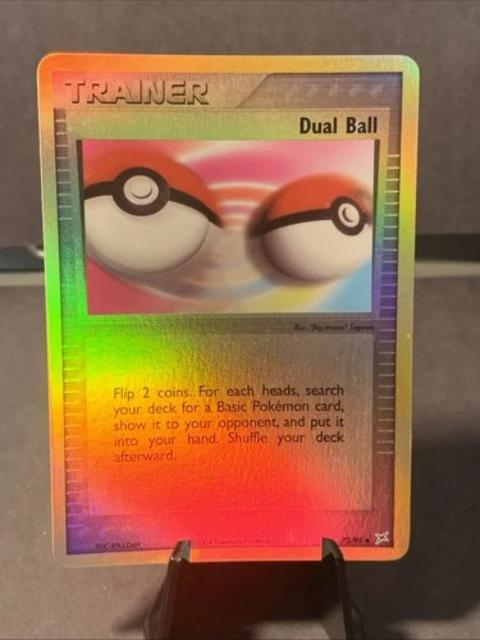Card: (28, 46, 425, 573)
Name: (293, 110, 383, 139)
